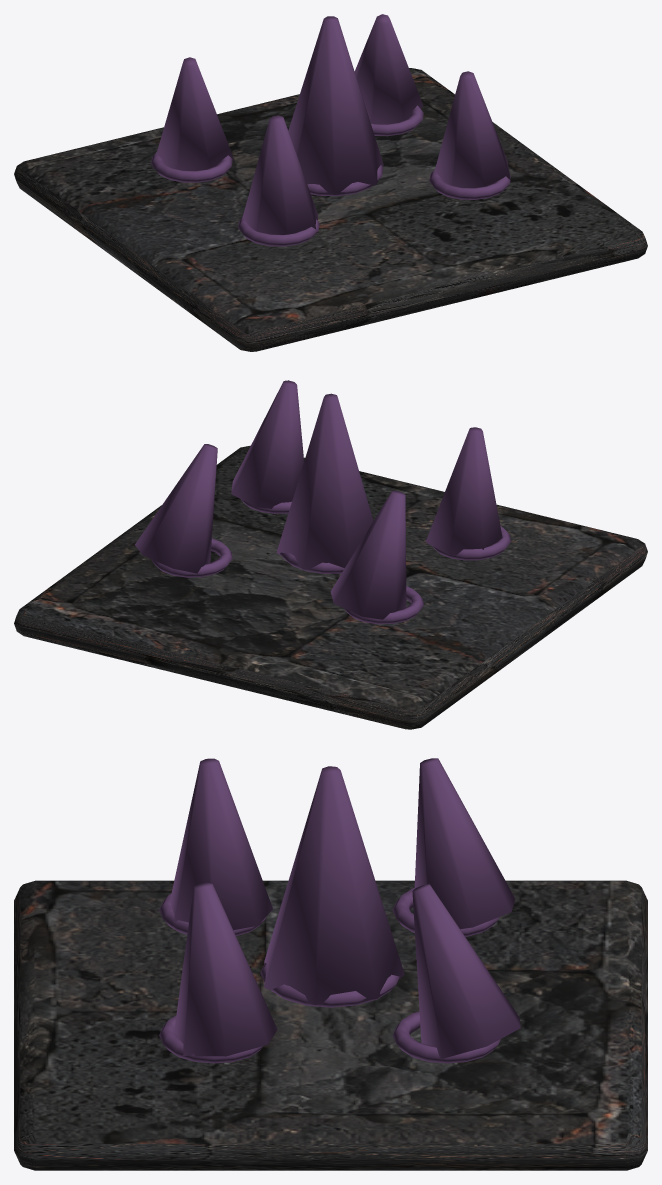
Rendered from w3_tile_hazard.glb.
The picture shows the model from 3 angles, top to bottom: view 1: azimuth 30°, elevation 25°; view 2: azimuth 150°, elevation 25°; view 3: azimuth 270°, elevation 25°; orthographic projection. The views are drawn at different scales.
Visible parts, largest first — view 1: w3_tile_hazard; view 2: w3_tile_hazard; view 3: w3_tile_hazard.
Boxes of the visible parts, bbox=[...] form: w3_tile_hazard: bbox=[14, 14, 647, 351]; w3_tile_hazard: bbox=[14, 380, 647, 729]; w3_tile_hazard: bbox=[14, 758, 647, 1170].
Size of the model in its own units: 1.63 by 0.78 by 1.63.
3 materials, 1 textured.
